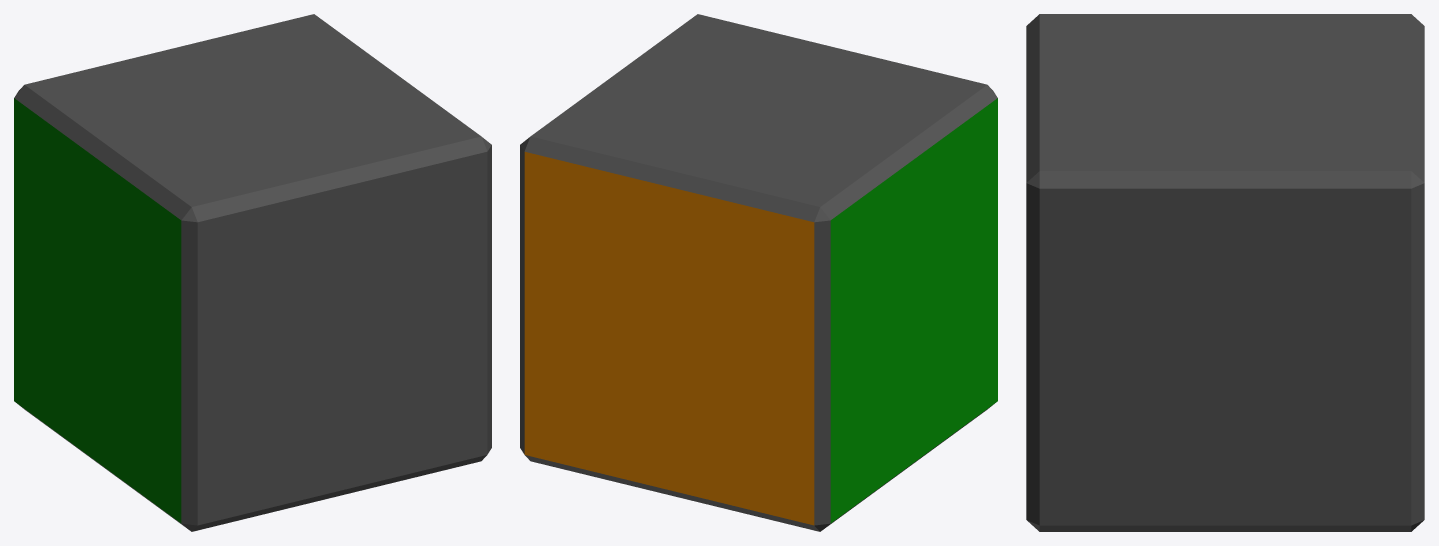
The model's file is ogy.obj.
The picture shows the model from 3 angles, left to right: view 1: azimuth 30°, elevation 25°; view 2: azimuth 150°, elevation 25°; view 3: azimuth 270°, elevation 25°; orthographic projection. The views are drawn at different scales.
Parts seen in each view (by area): view 1: Cube_Cube.001; view 2: Cube_Cube.001; view 3: Cube_Cube.001.
Part boxes in pixels (x1,y1,x2,y2): Cube_Cube.001: (14,14,491,531); Cube_Cube.001: (520,14,997,531); Cube_Cube.001: (1026,14,1424,531).
Bounding box in the file's own units: 20 × 20 × 20.
